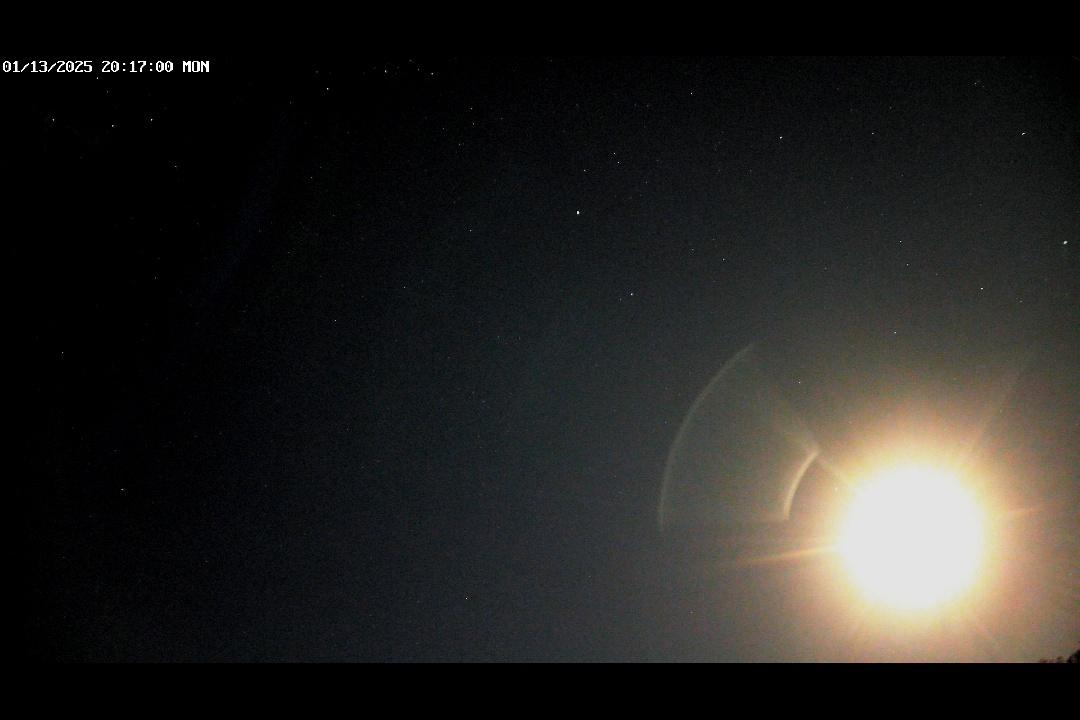Plane: (1055, 239, 1073, 271)
